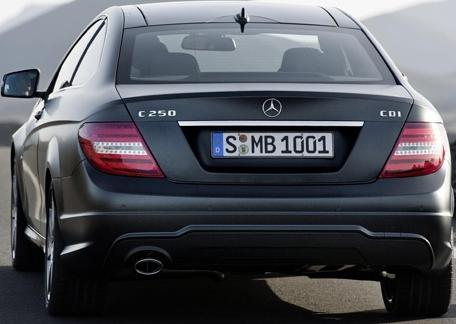back_view: (63, 101, 443, 258)
backlight: (66, 111, 179, 181)
side_glass: (36, 18, 99, 99)
